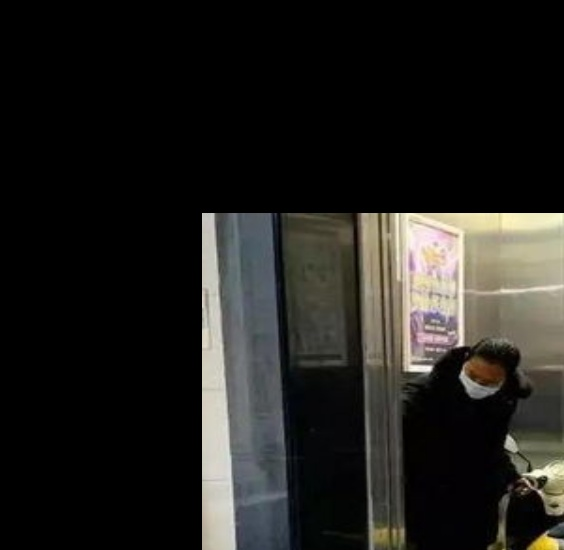ebike: (501, 437, 564, 550)
person: (410, 340, 521, 550)
